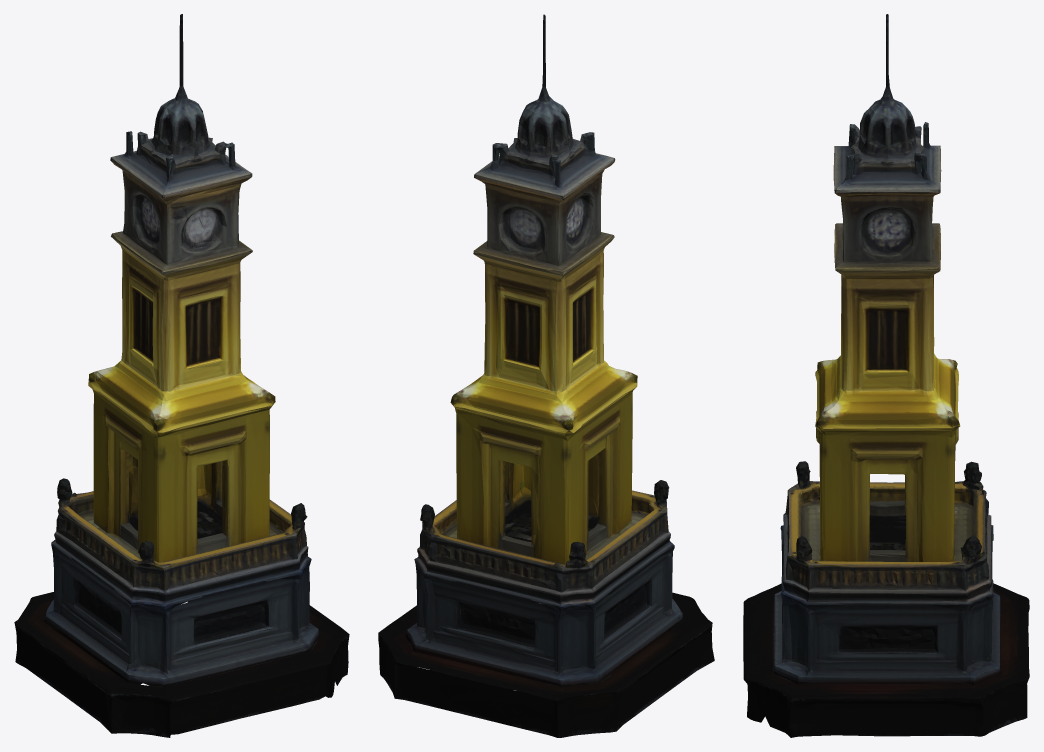
Rendered from reloj.glb.
3 views of the same model, side by side, from view 1: azimuth 30°, elevation 25°; view 2: azimuth 150°, elevation 25°; view 3: azimuth 270°, elevation 25° (orthographic).
Visible parts, largest first — view 1: world; view 2: world; view 3: world.
Boxes of the visible parts, box(x1,y1,x2,y2) form: world: box(14, 14, 349, 737); world: box(378, 14, 714, 737); world: box(743, 14, 1029, 737).
Size of the model in its own units: 0.388 by 1 by 0.3908.
Materials: 1 (1 with a texture image).
